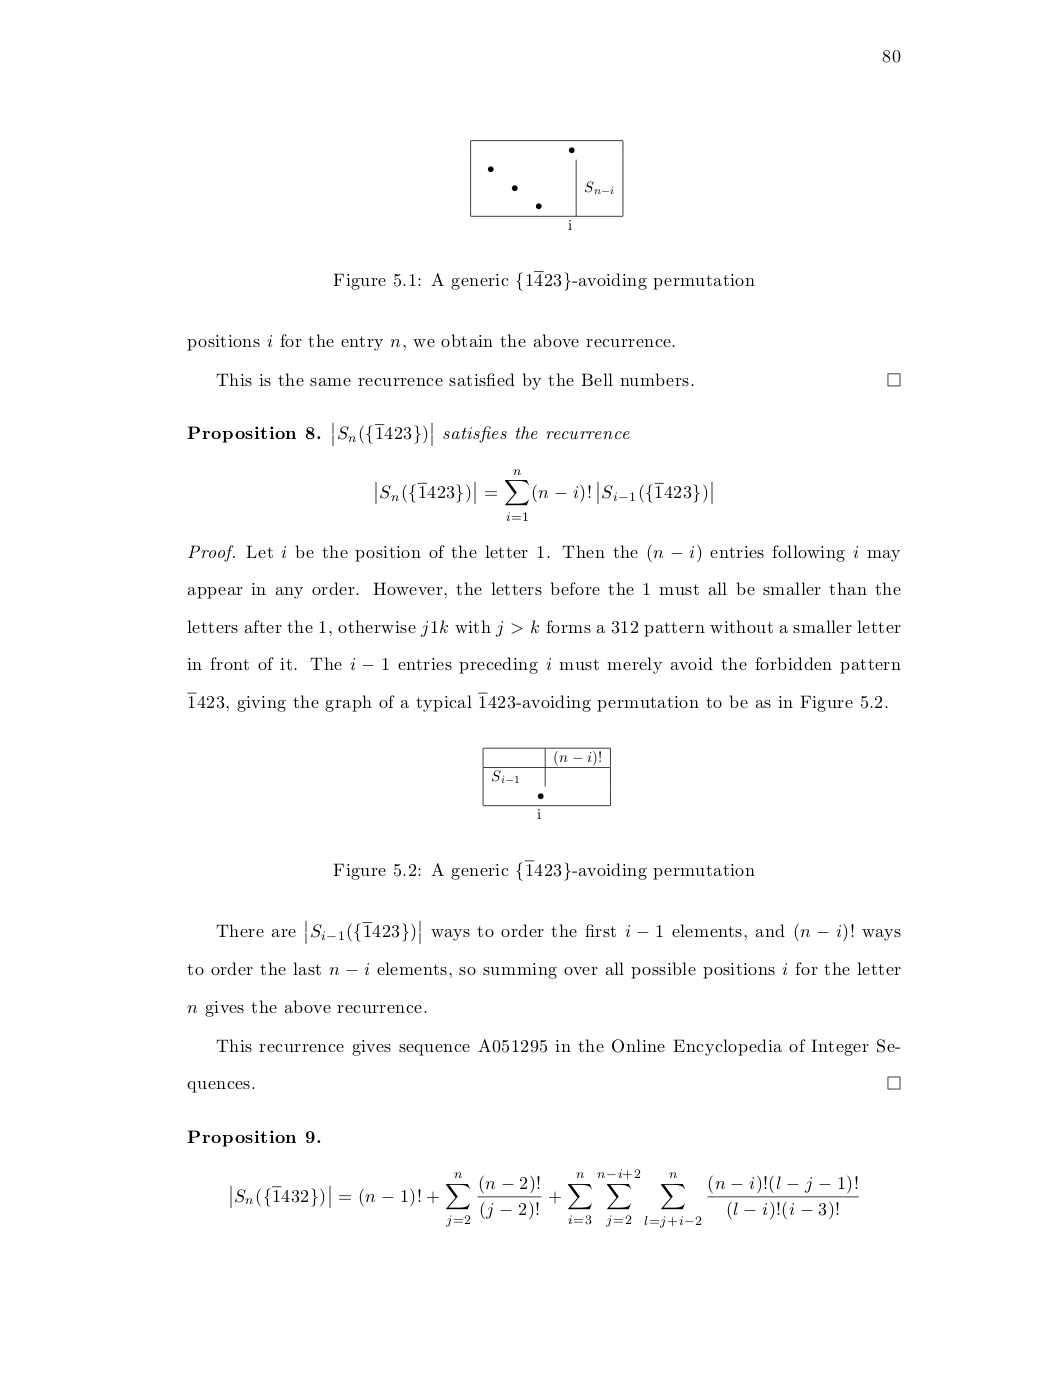figure: (470, 140, 623, 228), (481, 747, 610, 818)
formula: (230, 1168, 858, 1228), (374, 469, 712, 520)
